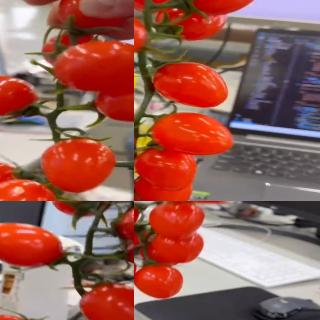tomato: (51, 41, 134, 94), (42, 140, 118, 196), (152, 62, 229, 110), (153, 111, 236, 155), (0, 223, 70, 270), (136, 146, 199, 190), (150, 6, 228, 41), (149, 201, 205, 240), (80, 282, 134, 320), (148, 230, 205, 266), (134, 263, 184, 300), (94, 74, 134, 120), (0, 74, 41, 118), (134, 173, 194, 201), (177, 0, 266, 17), (0, 178, 56, 201), (50, 201, 114, 217), (0, 161, 24, 194), (134, 0, 181, 14)
